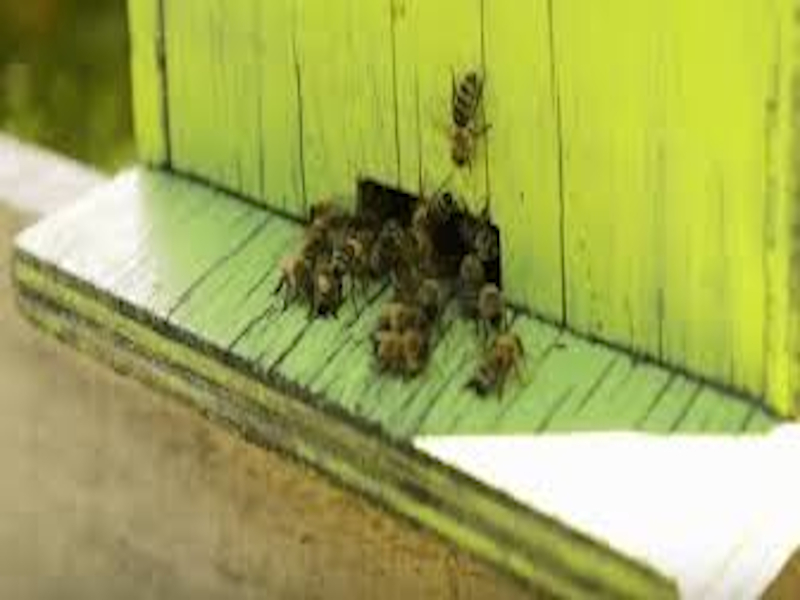abeja: (443, 60, 493, 179), (462, 332, 535, 404), (360, 331, 431, 379), (279, 218, 318, 298)
